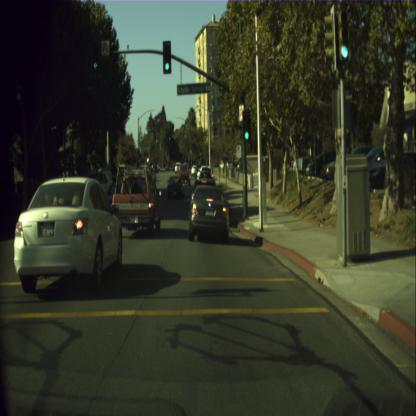Green: (340, 10, 348, 58), (162, 41, 171, 73), (242, 112, 250, 140), (168, 132, 170, 140), (200, 149, 202, 156), (191, 150, 193, 155)
GreenLeft: (92, 50, 98, 69)
